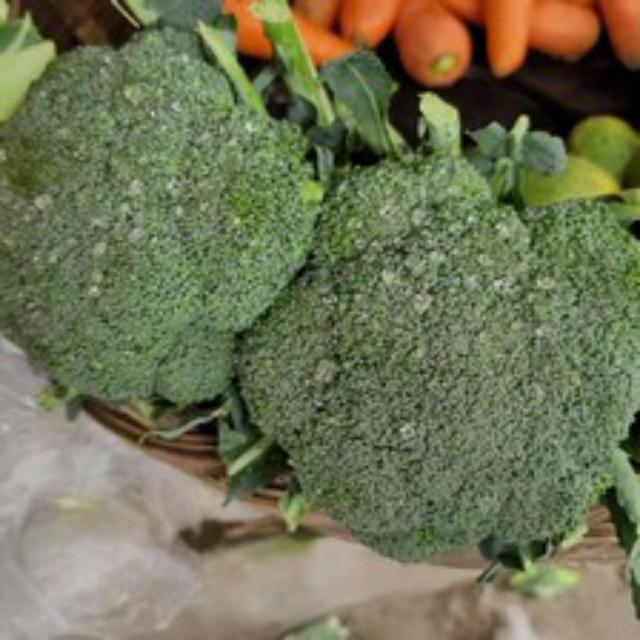broccoli: (223, 140, 637, 574)
